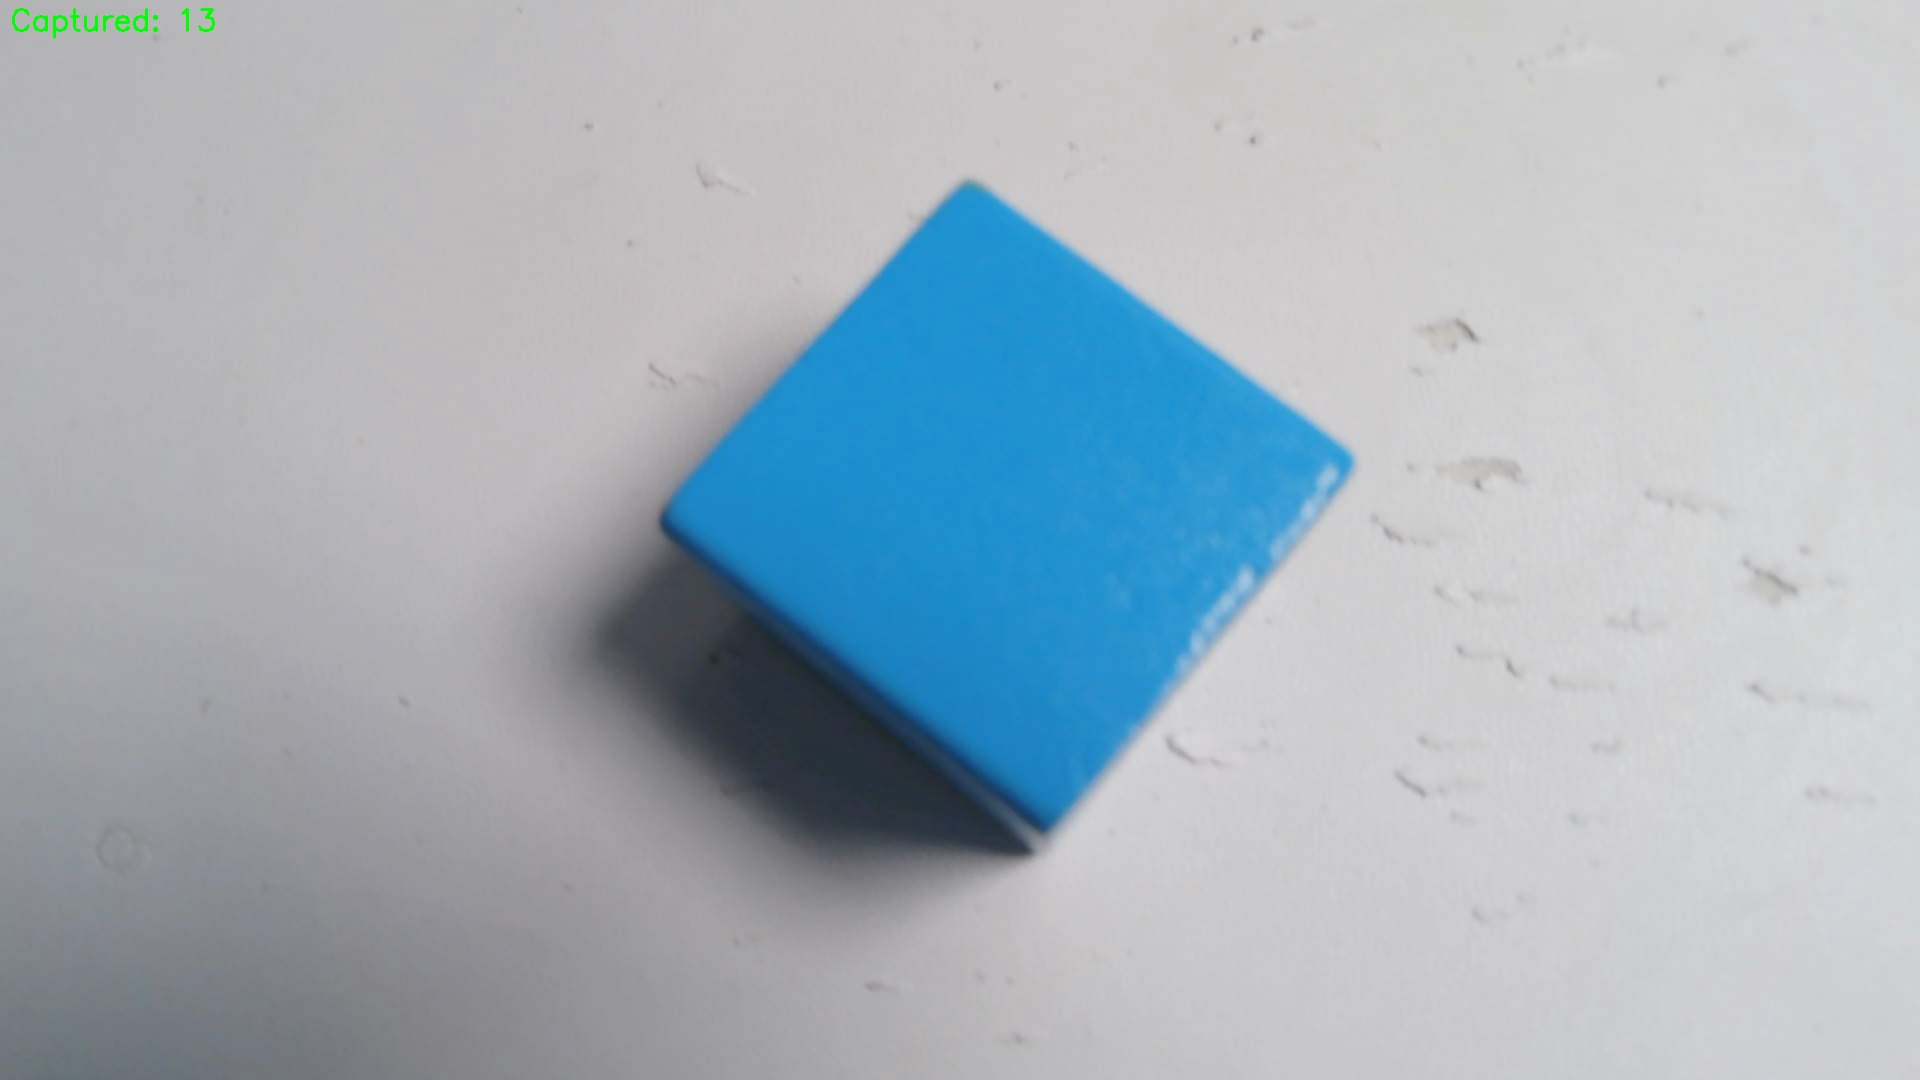blue: (663, 181, 1358, 858)
